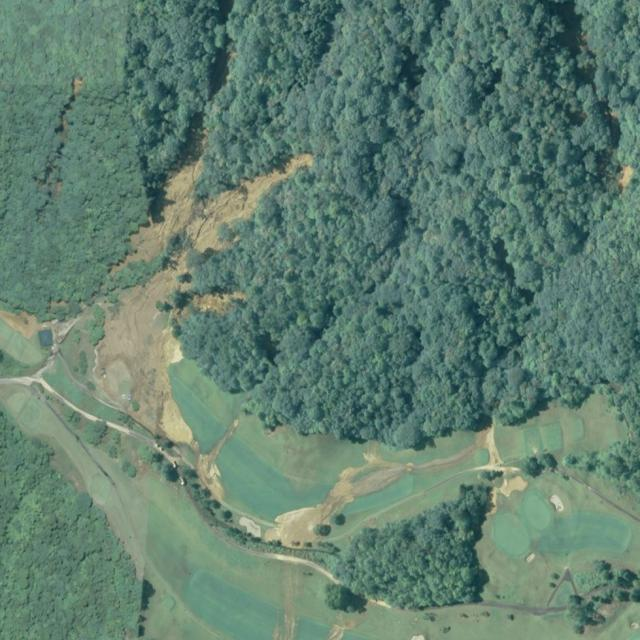landslide: (93, 268, 198, 451)
